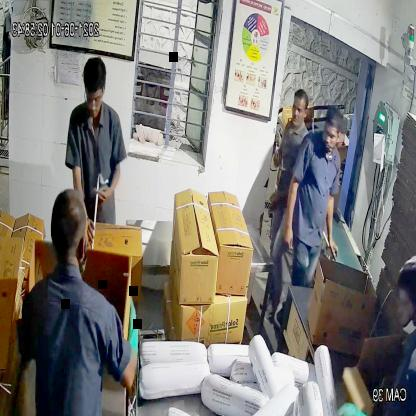no_goggles: (288, 102, 309, 120)
